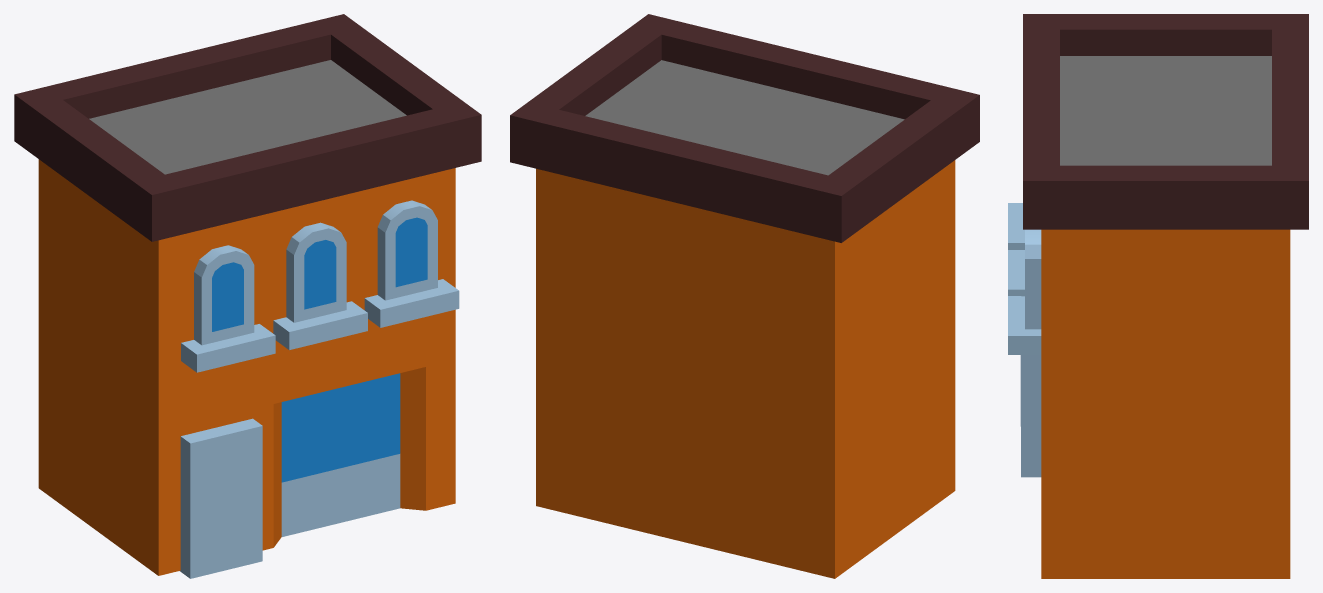
The model's file is shop01_s01.FBX.
3 views of the same model, side by side, from view 1: azimuth 30°, elevation 25°; view 2: azimuth 150°, elevation 25°; view 3: azimuth 270°, elevation 25° (orthographic). The views are drawn at different scales.
Parts seen in each view (by area): view 1: shop01_s01; view 2: shop01_s01; view 3: shop01_s01.
Boxes of the visible parts, x1,y1,x2,y2 form: shop01_s01: (14, 14, 481, 578); shop01_s01: (510, 14, 979, 578); shop01_s01: (1008, 14, 1308, 578).
Bounding box in the file's own units: 470 × 358 × 535.
Materials: 1 (1 with a texture image).
